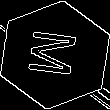M_E: (25, 28, 85, 82)
